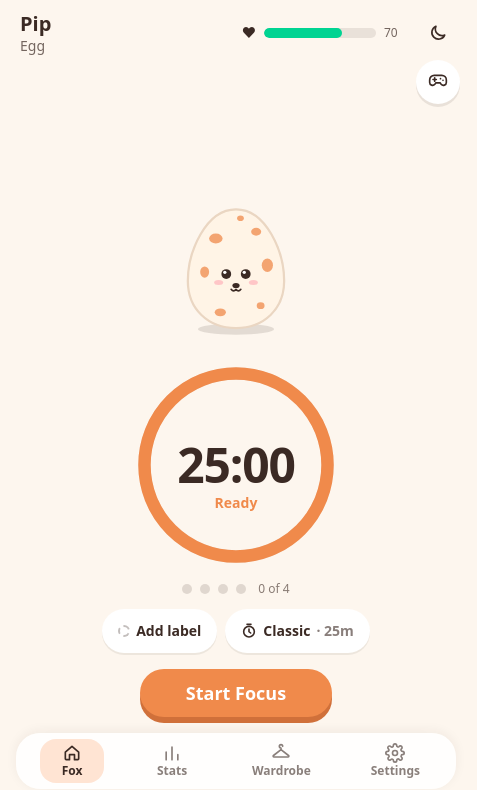
Settings › clamps values to their limits
Click the button "Settings": (395, 761) [359, 739, 432, 783]
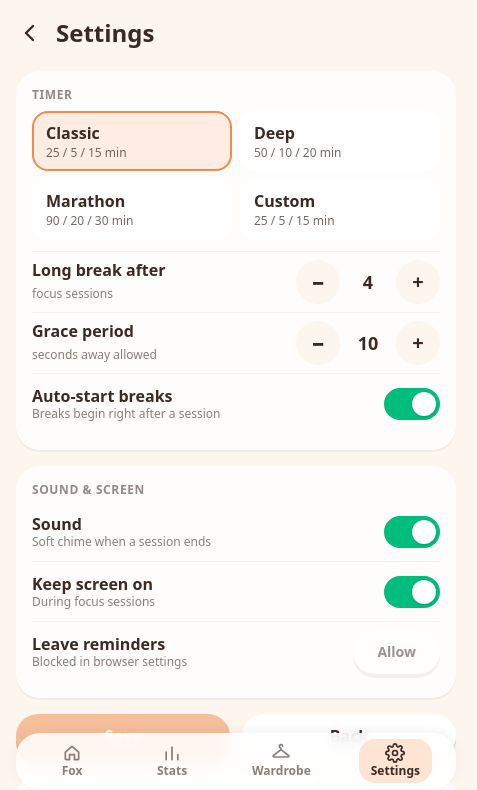
Click the radio button labelled "Custom 25 / 5 / 15 min": (340, 209) [240, 179, 440, 239]
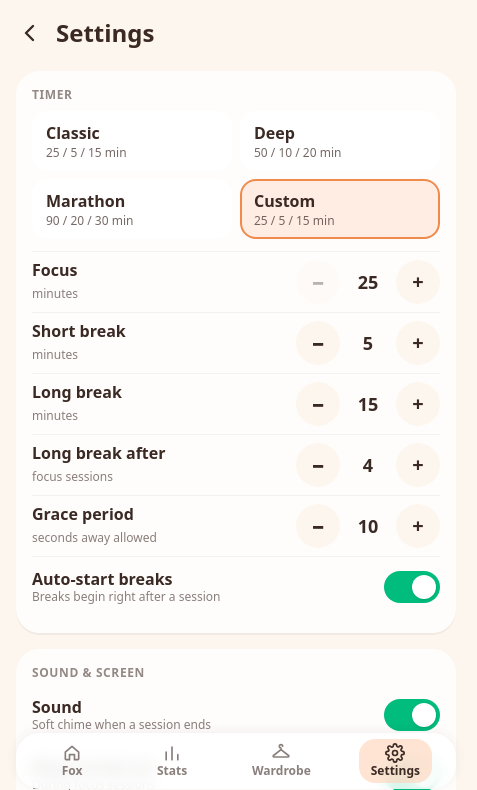
Replace the text in the number field labelled "Grace period" with "999": (368, 526) [344, 504, 392, 548]
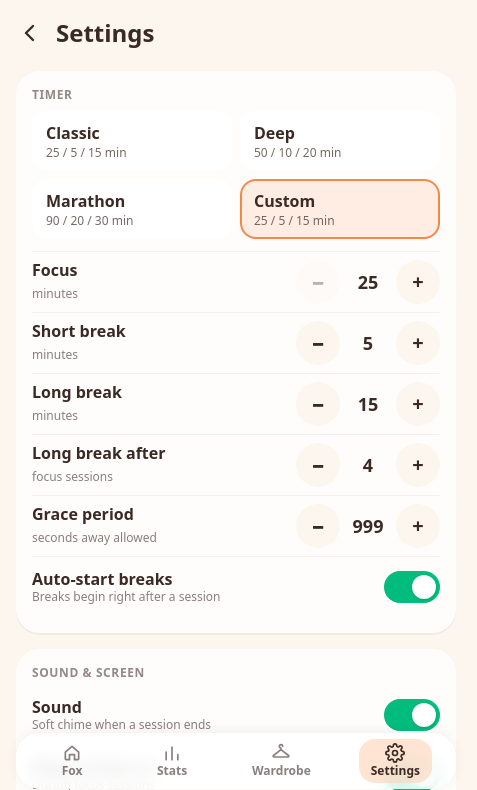
Leave the number field labelled "Grace period", box [344, 504, 392, 548]
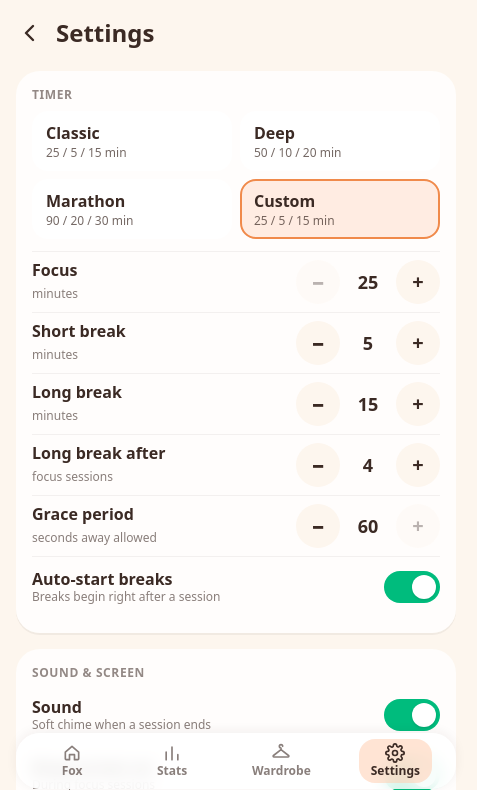
Now the number field labelled "Grace period" holds "60", box [344, 504, 392, 548]
